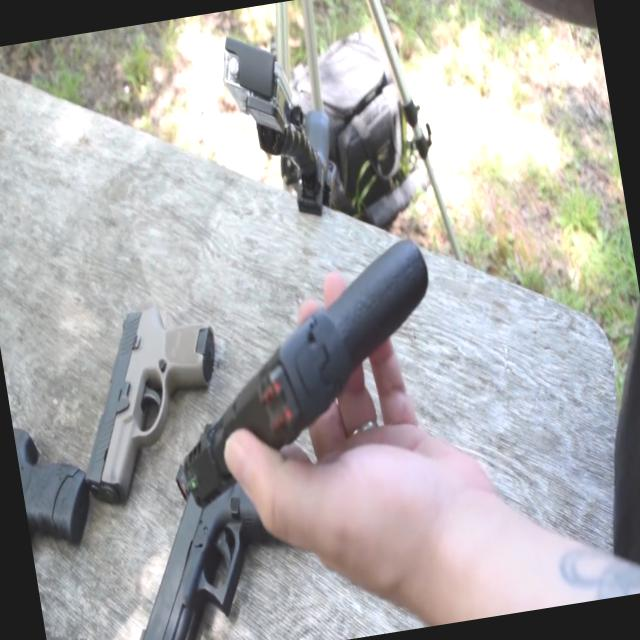handgun: (153, 230, 460, 532), (79, 393, 354, 639), (59, 288, 258, 526)
